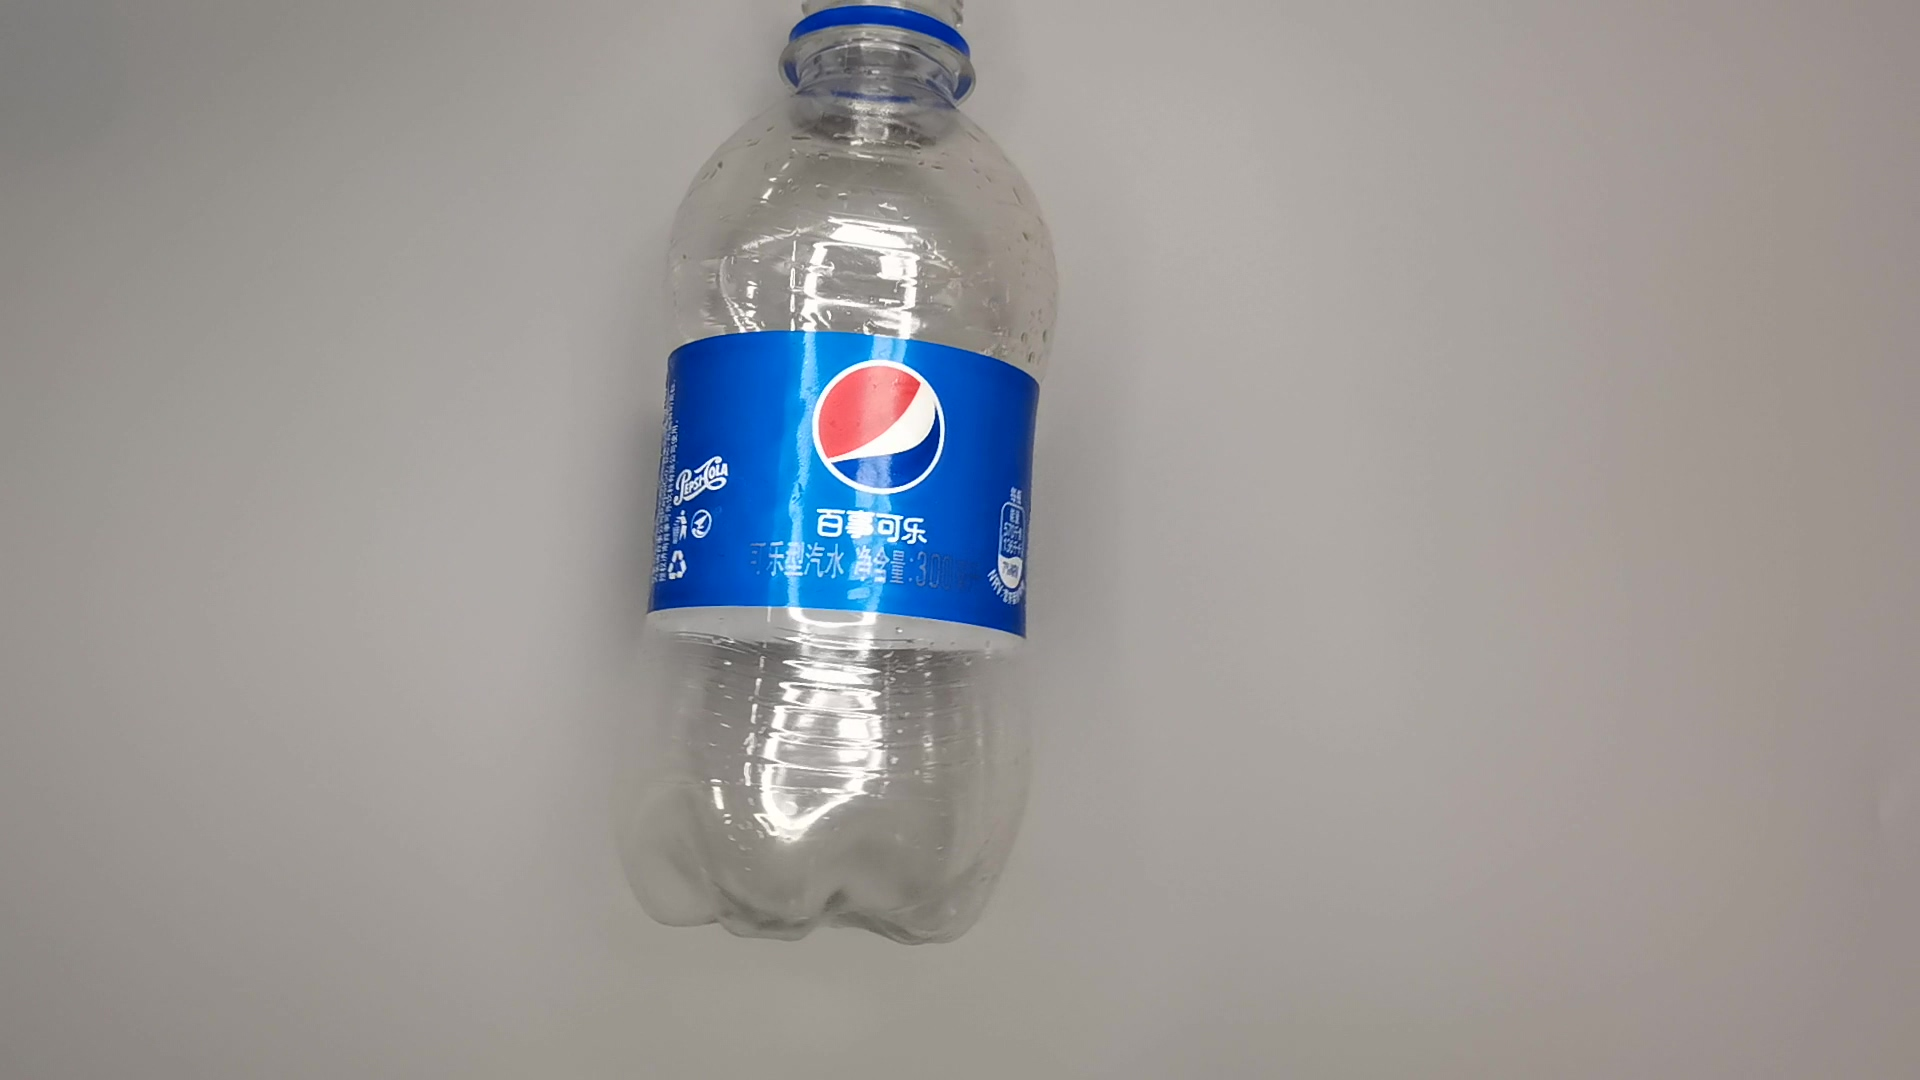bottle: (604, 1, 1062, 949)
